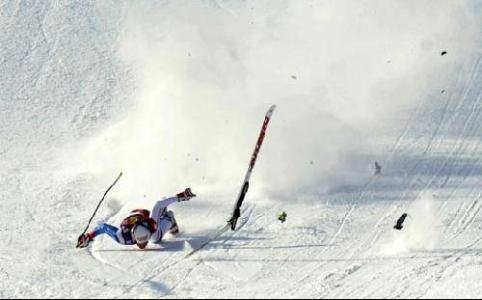falling: (70, 172, 211, 255)
